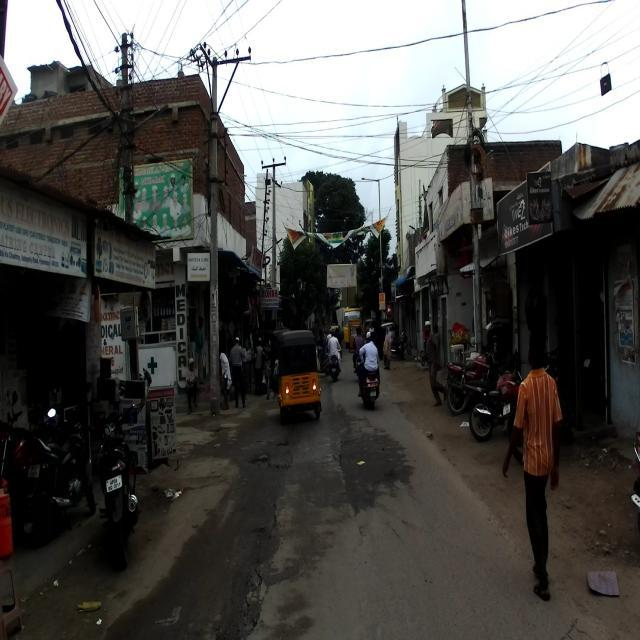Pothole: (155, 489, 289, 640), (244, 426, 314, 469)
